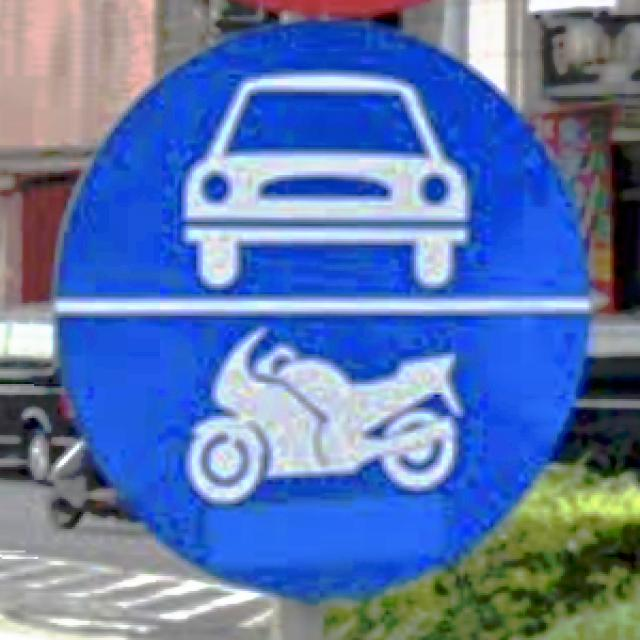carmotorcycle: (51, 19, 595, 608)
